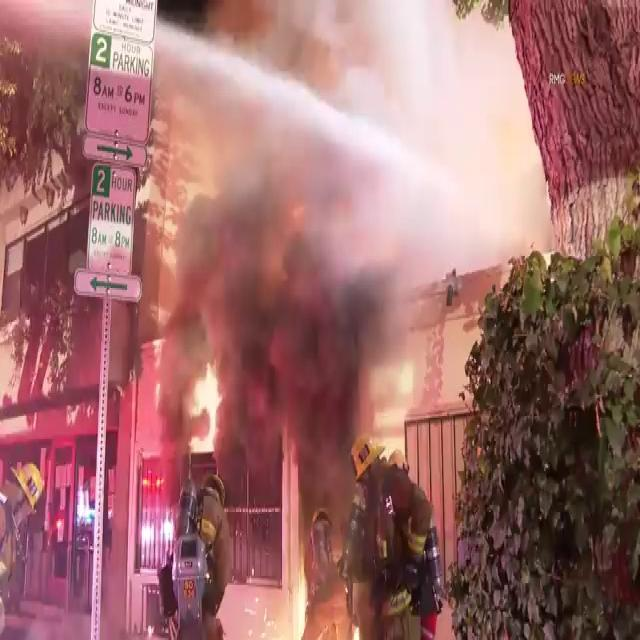Fire: (186, 356, 227, 456)
Smoke: (160, 0, 447, 436)
